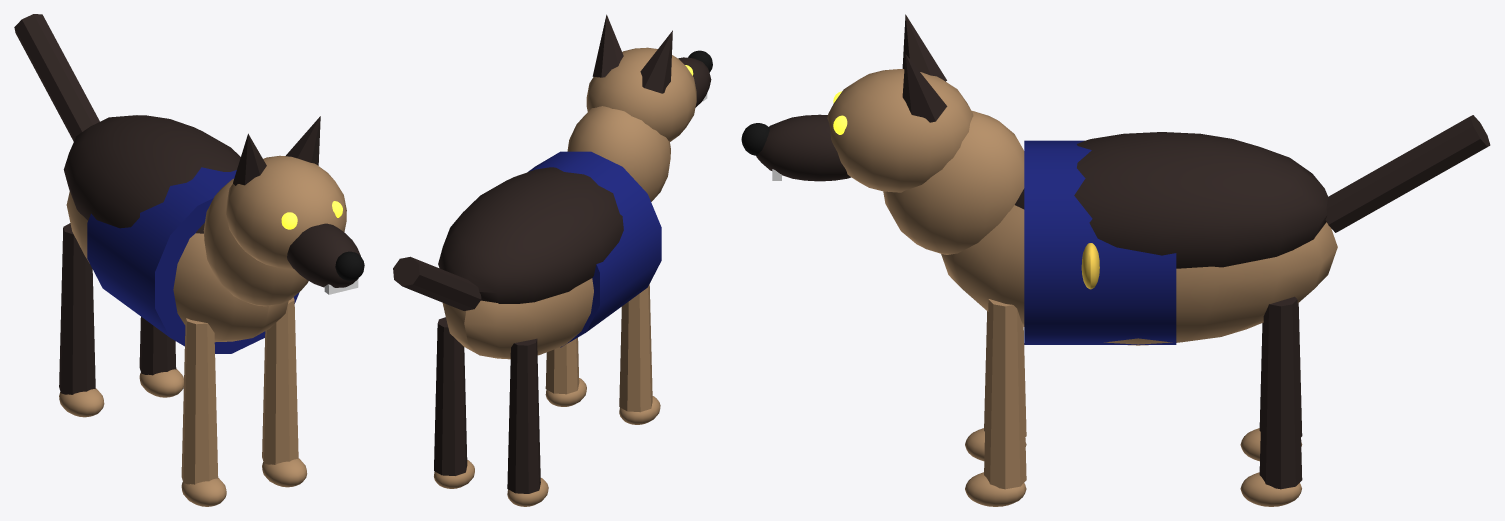
The model's file is law_k9.glb.
The picture shows the model from 3 angles, left to right: view 1: azimuth 30°, elevation 25°; view 2: azimuth 150°, elevation 25°; view 3: azimuth 270°, elevation 25°; orthographic projection. The views are drawn at different scales.
Visible parts, largest first — view 1: Body, Head, Leg_FR, Leg_BR, Leg_FL, Tail, Leg_BL; view 2: Body, Head, Leg_BR, Leg_BL, Leg_FR, Tail, Leg_FL; view 3: Body, Head, Leg_BL, Leg_FL, Tail, Leg_BR, Leg_FR.
Part boxes in pixels (x1,y1,x2,y2): Body: (63,115,308,353); Head: (226,116,364,294); Leg_FR: (181,318,226,506); Leg_BR: (59,223,104,417); Leg_FL: (262,297,307,487); Tail: (14,14,99,141); Leg_BL: (139,317,183,397); Body: (438,106,670,359); Head: (586,14,712,141); Leg_BR: (507,338,548,506); Leg_BL: (434,317,474,488); Leg_FR: (619,284,660,424); Tail: (393,256,481,310); Leg_FL: (545,337,586,406); Body: (883,111,1337,345); Head: (741,14,973,192); Leg_BL: (1240,296,1302,506); Leg_FL: (965,299,1026,506); Tail: (1325,115,1490,232); Leg_BR: (1240,303,1302,461); Leg_FR: (965,311,1026,461).
Size of the model in its own units: 0.4596 by 1.04 by 1.58.
